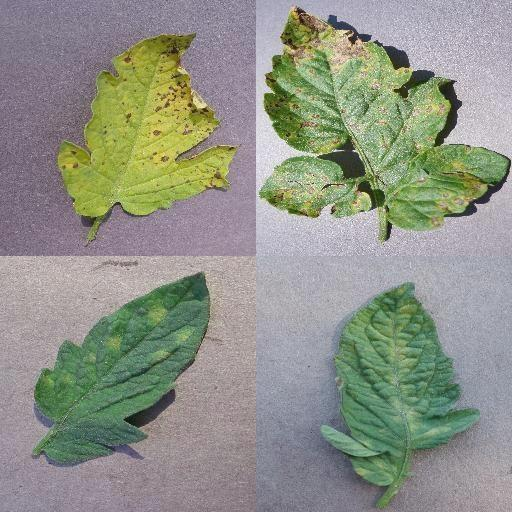Leaf Mold: (35, 272, 211, 468), (321, 282, 480, 488)
Septoria: (260, 7, 510, 229), (58, 31, 242, 219)
